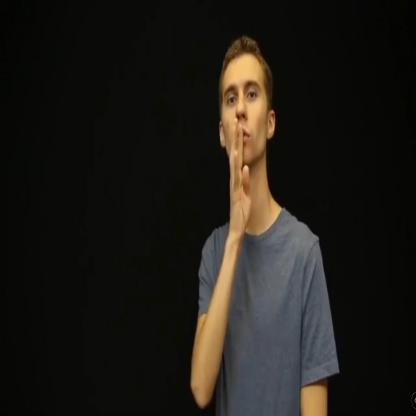Talk: (192, 14, 287, 252)
